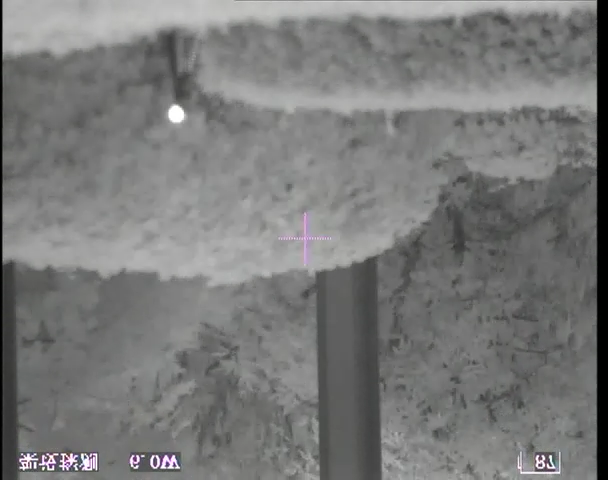my: (166, 103, 186, 124)
